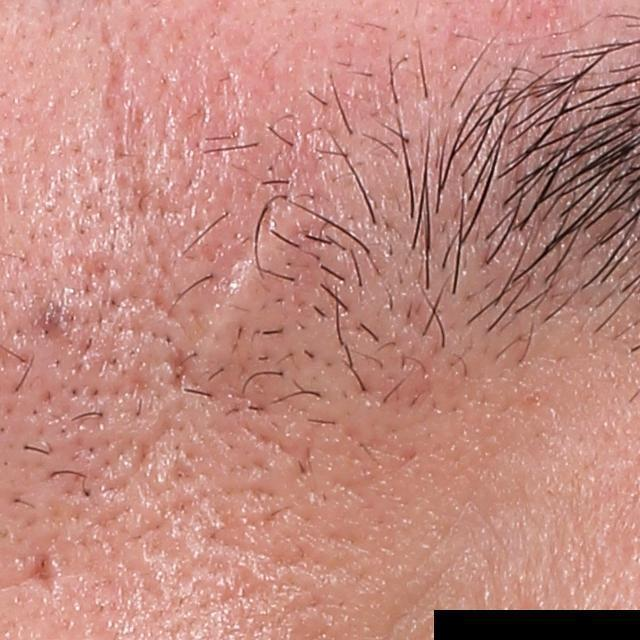atrophic_scar: (96, 14, 187, 222), (172, 238, 260, 374), (22, 546, 58, 604)
